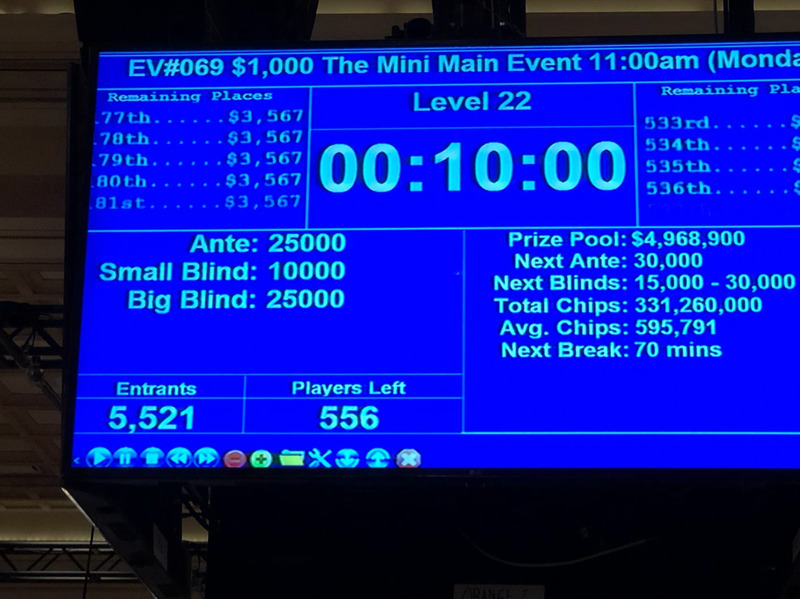PlayersLeft: (245, 371, 467, 437)
